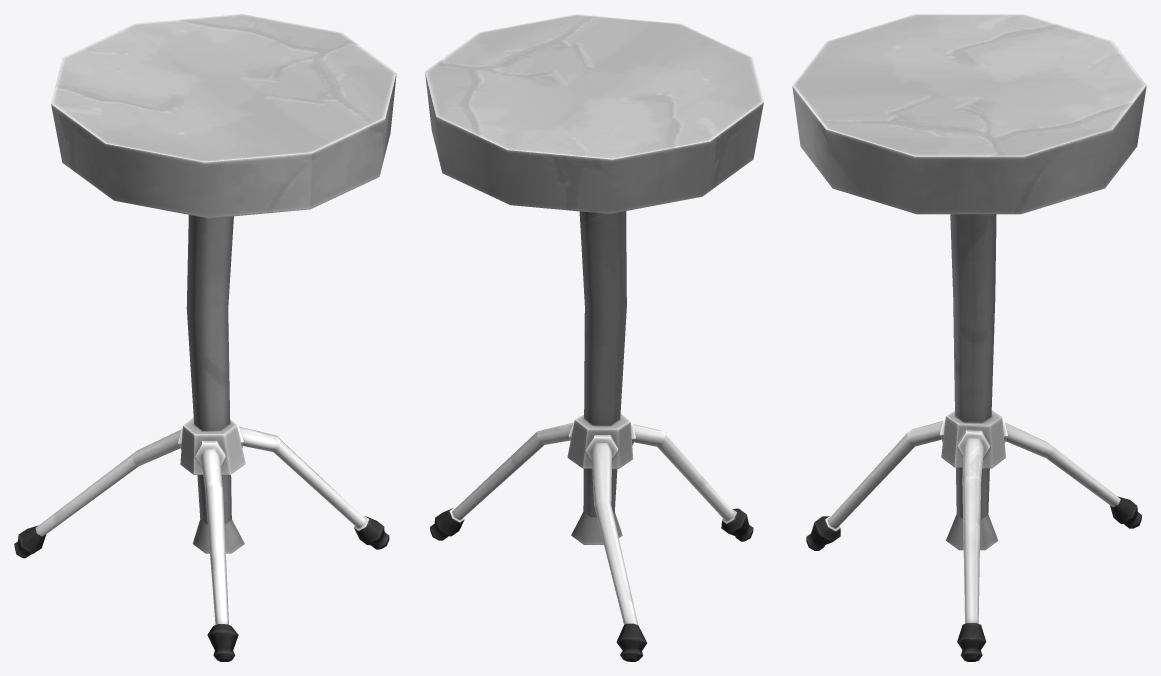
File: obj_bench02_alt.gltf
The picture shows the model from 3 angles, left to right: view 1: azimuth 30°, elevation 25°; view 2: azimuth 150°, elevation 25°; view 3: azimuth 270°, elevation 25°; orthographic projection. The views are drawn at different scales.
Parts seen in each view (by area): view 1: obj_bench02_alt; view 2: obj_bench02_alt; view 3: obj_bench02_alt.
Part boxes in pixels (left/top/right/bottom): obj_bench02_alt: left=14, top=14, right=396, bottom=661; obj_bench02_alt: left=425, top=14, right=763, bottom=661; obj_bench02_alt: left=792, top=14, right=1146, bottom=661.
Size of what is drawn, in the model's own units: 0.5508 by 0.8477 by 0.5434.
Materials: 1 (1 with a texture image).
